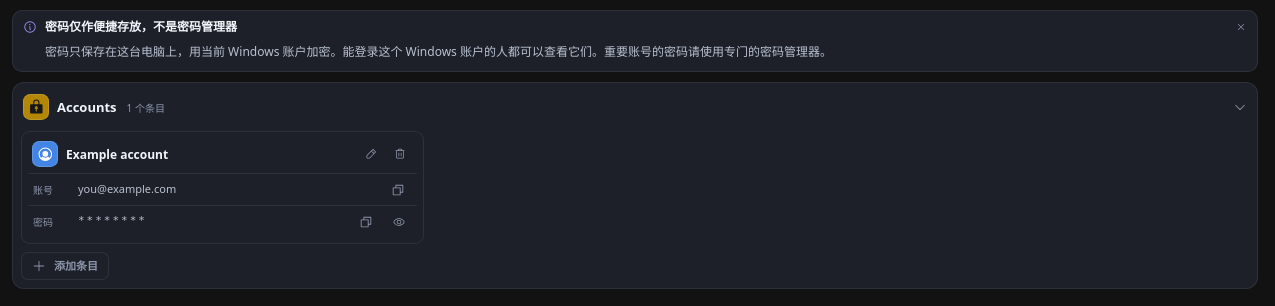
Test: the passwords page › no longer carries it once it was closed
Click the button with test id "password-safety-dismiss" at (1241, 27), box left=1229, top=15, right=1253, bottom=39
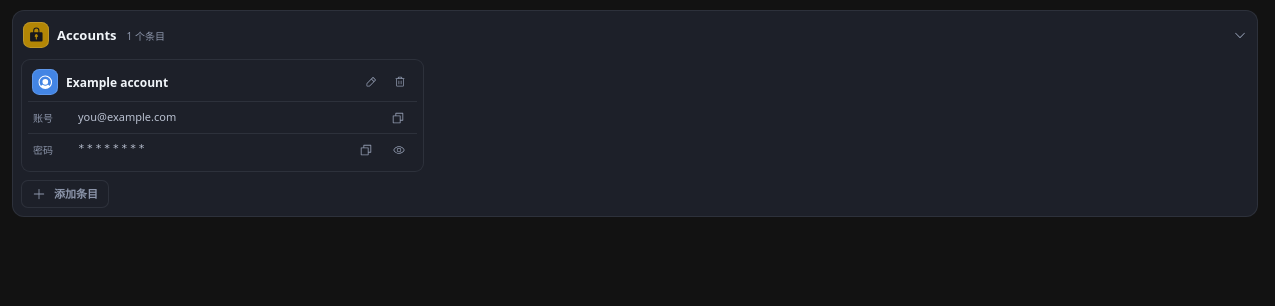
Result: the element with test id "password-safety-note" is gone
